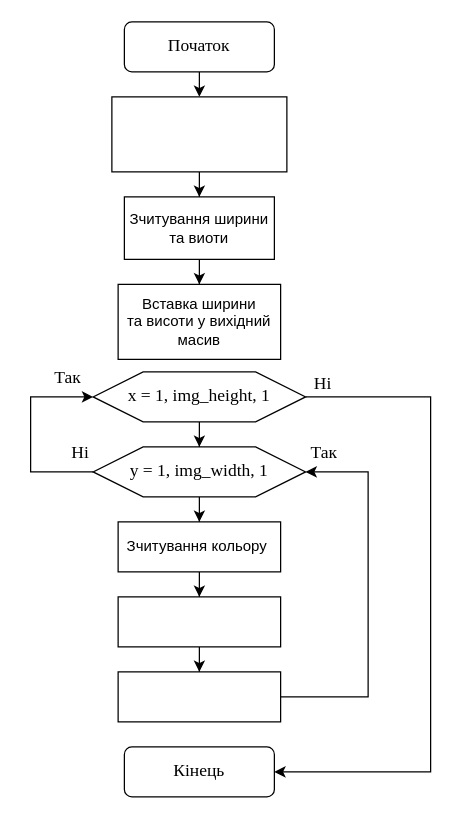
The diagram is 463 pixels wide and 819 high, and some of its shapes have lost their labels. The centre of each missing label's shape, as x and y in pixels:
"вставка клольору в масив" belongs at (199,696).
"Конвертація r, g, b в одне число" belongs at (199,621).
"Створення об'єкта класа з вхідним зображення" belongs at (199,134).
